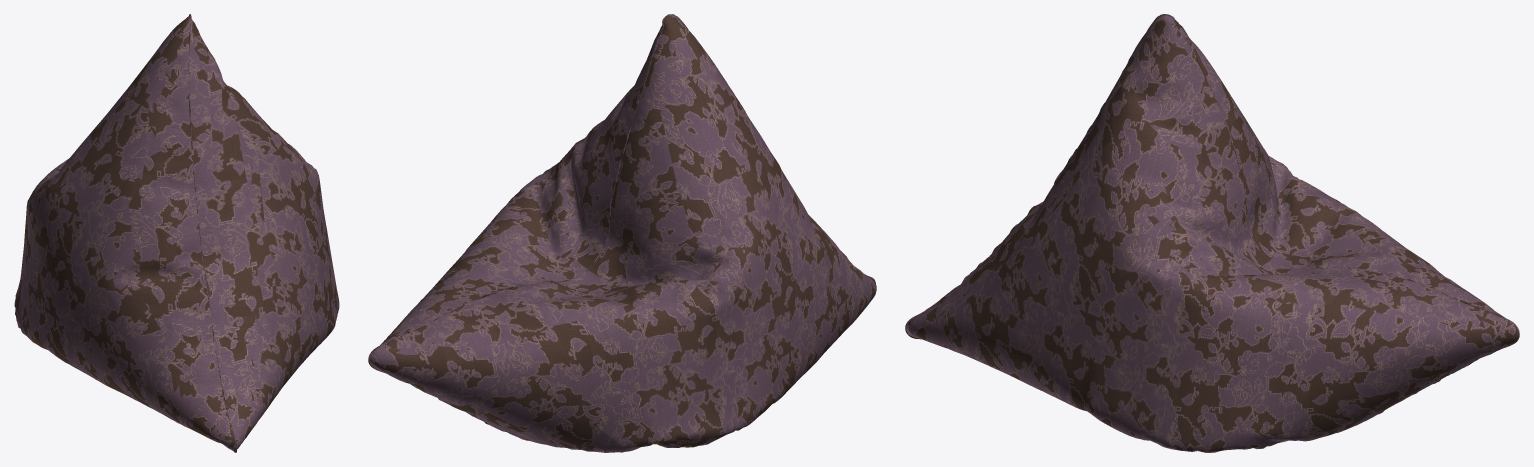
Rendered from pillow5.fbx.
The picture shows the model from 3 angles, left to right: view 1: azimuth 30°, elevation 25°; view 2: azimuth 150°, elevation 25°; view 3: azimuth 270°, elevation 25°; orthographic projection. The views are drawn at different scales.
Visible parts, largest first — view 1: Elfo_03; view 2: Elfo_03; view 3: Elfo_03.
Boxes of the visible parts, x1,y1,x2,y2 form: Elfo_03: [14, 14, 339, 452]; Elfo_03: [368, 14, 876, 452]; Elfo_03: [905, 14, 1519, 452].
Bounding box in the file's own units: 29.87 × 33.77 × 51.78.
